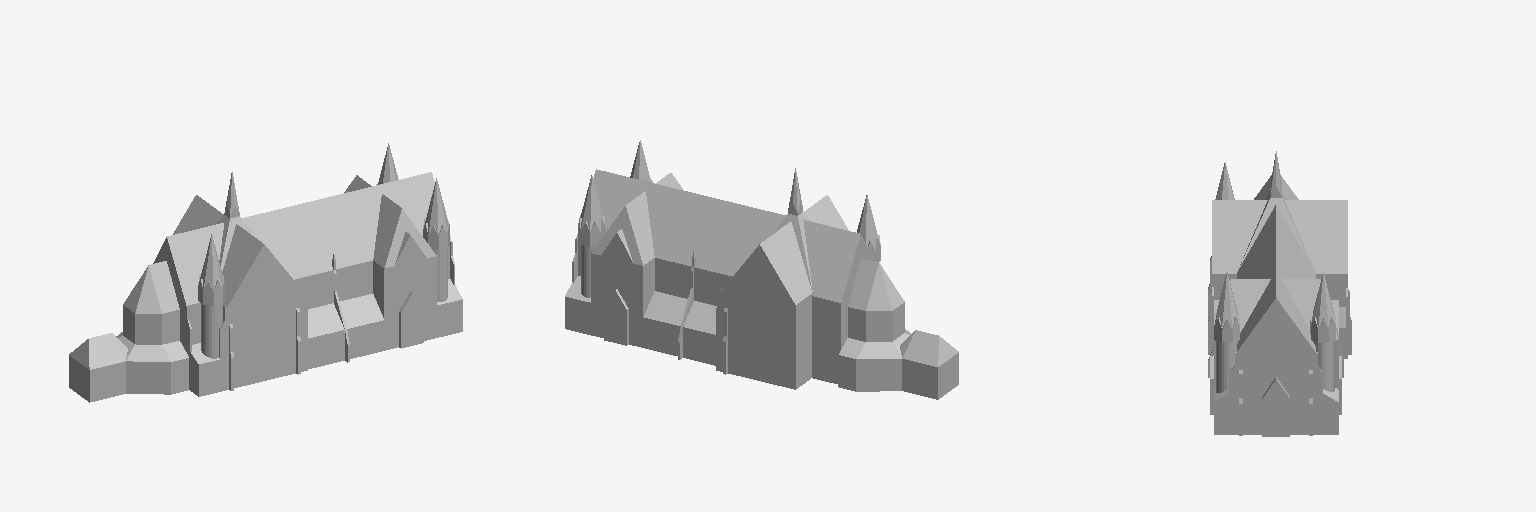
The model's file is egliseT.obj.
3 views of the same model, side by side, from view 1: azimuth 30°, elevation 25°; view 2: azimuth 150°, elevation 25°; view 3: azimuth 270°, elevation 25° (orthographic).
Visible parts, largest first — view 1: Mesh7 eglise1 Model, Mesh1 Composant_4_1 eglise1 Model, Mesh3 Composant_5_1 eglise1 Model; view 2: Mesh7 eglise1 Model, Mesh5 Composant_5_2 eglise1 Model, Mesh1 Composant_4_1 eglise1 Model; view 3: Mesh7 eglise1 Model, Mesh3 Composant_5_1 eglise1 Model, Mesh5 Composant_5_2 eglise1 Model.
Part boxes in pixels (x1,y1,x2,y2): Mesh7 eglise1 Model: (69, 172, 462, 402); Mesh1 Composant_4_1 eglise1 Model: (198, 234, 225, 305); Mesh3 Composant_5_1 eglise1 Model: (423, 178, 449, 249); Mesh7 eglise1 Model: (565, 168, 958, 399); Mesh5 Composant_5_2 eglise1 Model: (578, 175, 605, 246); Mesh1 Composant_4_1 eglise1 Model: (857, 195, 880, 261); Mesh7 eglise1 Model: (1208, 151, 1351, 436); Mesh3 Composant_5_1 eglise1 Model: (1214, 272, 1239, 342); Mesh5 Composant_5_2 eglise1 Model: (1310, 271, 1335, 342).
Size of the model in its own units: 10.93 by 5.49 by 3.8.